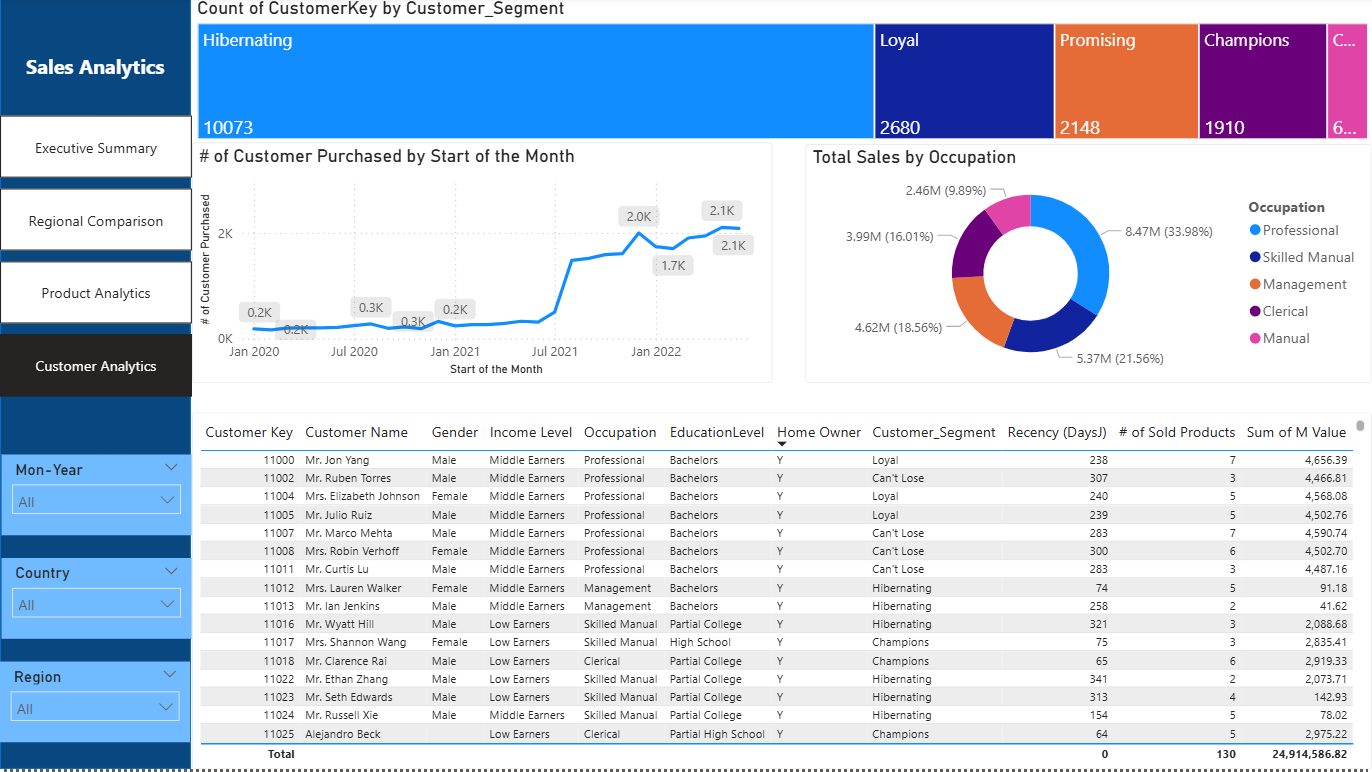

This screenshot's page, from the dashboard's own definition file:
{"tool":"powerbi","page":{"name":"Customer Analytics","canvas":[1280,720],"ordinal":3},"visuals":[{"type":"shape","box":[0,0,178,720],"z":0},{"type":"textbox","box":[0,46.2,177.5,37.5],"z":1000},{"type":"slicer","fields":{"Values":["Dim_Date.Mon-Year"]},"box":[1.1,427.3,177.3,75],"z":2000},{"type":"slicer","fields":{"Values":["Dim_Region.Country"]},"box":[1.1,523.9,177.3,75],"z":3000},{"type":"slicer","fields":{"Values":["Dim_Region.Region"]},"box":[0,619.3,177.3,75],"z":4000},{"type":"pageNavigator","box":[0,110.5,179.1,265.8],"z":5000},{"type":"treemap","fields":{"Group":["RFM Segment.Customer_Segment"],"Values":["Count(RFM Table.CustomerKey)"]},"box":[178.6,0,1101.4,137.1],"z":6000},{"type":"tableEx","fields":{"Values":["Dim_Customer.Customer Key","Dim_Customer.Customer Name","Dim_Customer.Gender ","Dim_Customer.Income Level","Dim_Customer.Occupation","Dim_Customer.EducationLevel","Dim_Customer.Home Owner","RFM Segment.Customer_Segment","_DAXMeasures (2).Recency (DaysJ)","_DAXMeasures (2).# of Sold Products","Sum(RFM Table.M Value)"]},"box":[178.6,387.1,1101.4,332.9],"z":7000},{"type":"lineChart","fields":{"Category":["Dim_Date.Start of the Month"],"Y":["_DAXMeasures (2).# of Customer Purchased"]},"box":[178.6,135.7,541.4,224.3],"z":8000},{"type":"donutChart","fields":{"Category":["Dim_Customer.Occupation"],"Y":["_DAXMeasures (2).Total Sales"]},"box":[751.4,137.1,528.6,222.9],"z":9000}]}

Visuals, with their boxes on the page's 1280x720 design canvas (x1, y1, x2, y2). These are canvas units, not pixel positions in the 1372x772 screenshot, which may show the page scaled, cropped or inside an application window:
shape: 0,0,178,720
textbox: 0,46,178,84
slicer - Dim_Date.Mon-Year: 1,427,178,502
slicer - Dim_Region.Country: 1,524,178,599
slicer - Dim_Region.Region: 0,619,177,694
pageNavigator: 0,110,179,376
treemap - RFM Segment.Customer_Segment x Count(RFM Table.CustomerKey): 179,0,1280,137
tableEx - Dim_Customer.Customer Key x Dim_Customer.Customer Name: 179,387,1280,720
lineChart - Dim_Date.Start of the Month x _DAXMeasures (2).# of Customer Purchased: 179,136,720,360
donutChart - Dim_Customer.Occupation x _DAXMeasures (2).Total Sales: 751,137,1280,360
